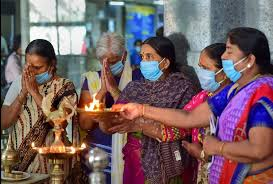mask: (220, 23, 256, 92), (18, 37, 53, 88), (137, 39, 173, 85), (192, 43, 220, 94), (92, 37, 123, 83)
